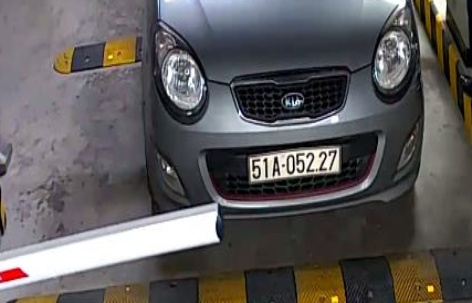plate: (241, 146, 345, 186)
